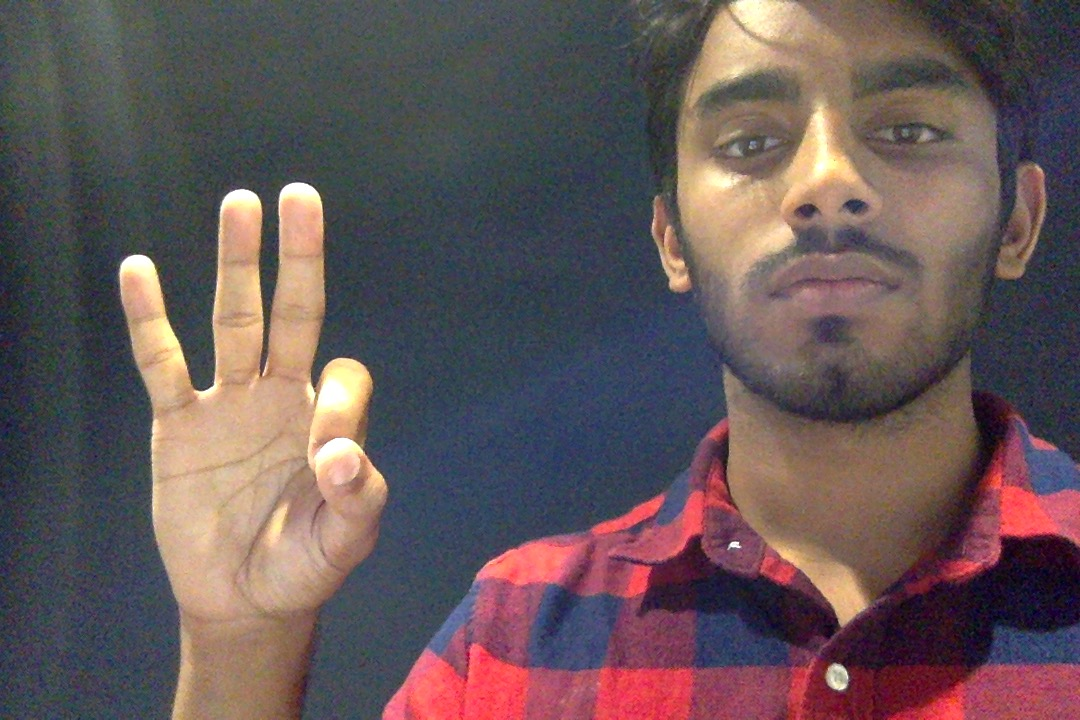f: (99, 176, 384, 704)
